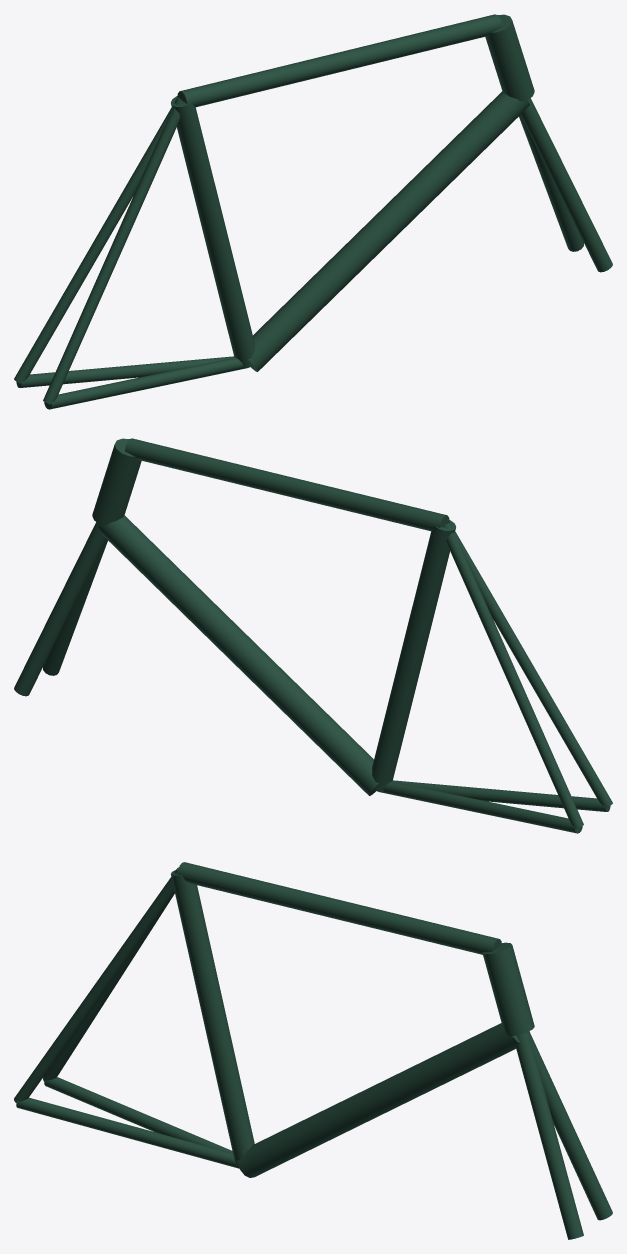
File: frame-track.glb
The picture shows the model from 3 angles, top to bottom: view 1: azimuth 30°, elevation 25°; view 2: azimuth 150°, elevation 25°; view 3: azimuth 330°, elevation 25°; orthographic projection.
Visible parts, largest first — view 1: paint (×10); view 2: paint (×10); view 3: paint (×10).
Part boxes in pixels (x1=…): paint (×10): x1=14, y1=14, x2=612, y2=409; paint (×10): x1=14, y1=438, x2=612, y2=833; paint (×10): x1=14, y1=862, x2=612, y2=1239.
Size of the model in its own units: 1.01 by 0.5038 by 0.1155.
